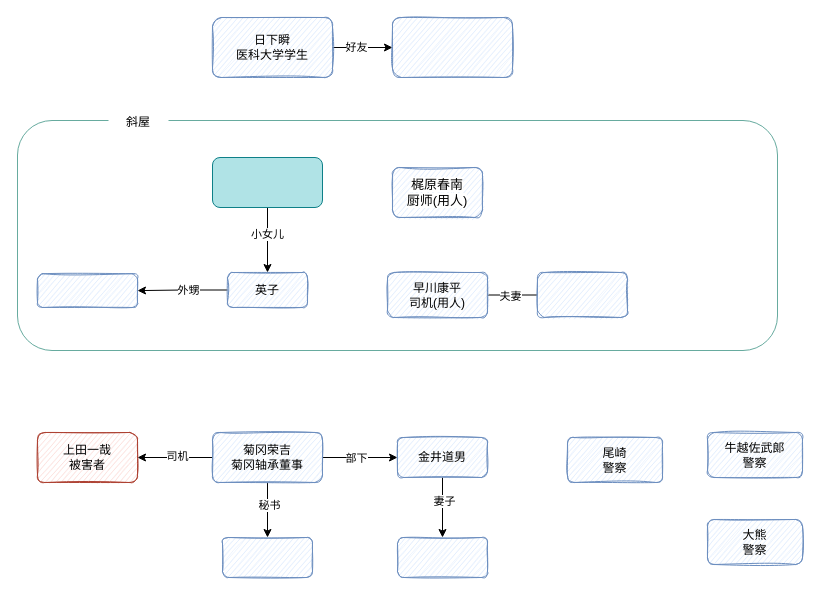
This 820x595 diagram has some shape labels left out. The shapes that lost their labels are listed below. From the top down, each one's box as (x1, y1, x2, y2) in pixels, then its label:
(392, 16, 512, 78): 户饲正树 东京大学学生
(212, 156, 322, 208): 滨本幸三郎 斜屋主人
(36, 273, 138, 308): 嘉彦 学生
(536, 272, 628, 318): 千贺子 用人
(222, 536, 312, 578): 相仓久美
(396, 536, 488, 578): 初江
